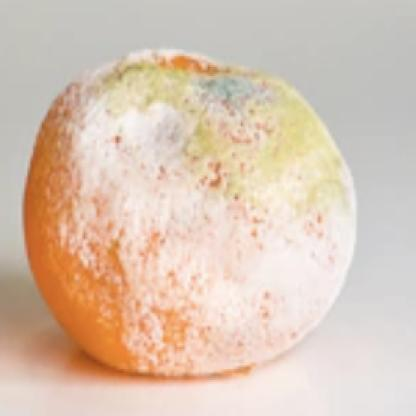rotten: (24, 50, 361, 380)
